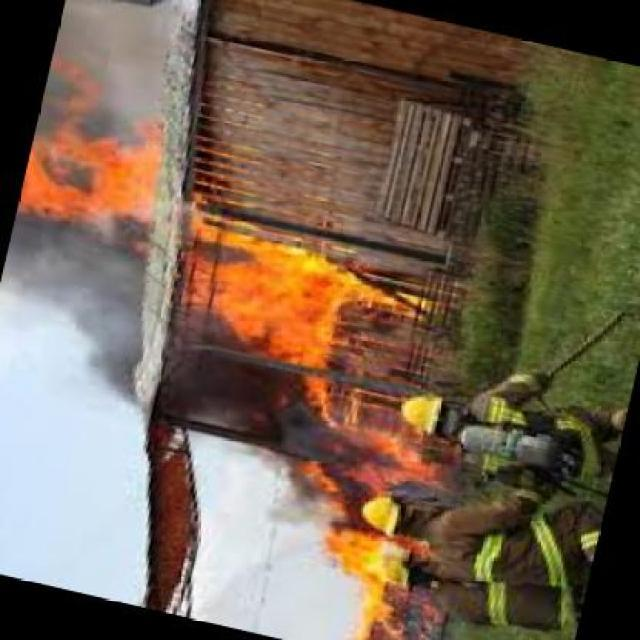Fire: (184, 214, 366, 405), (283, 378, 453, 503), (23, 124, 179, 230), (323, 528, 403, 626)
Smoke: (6, 216, 151, 372), (66, 3, 204, 118)
